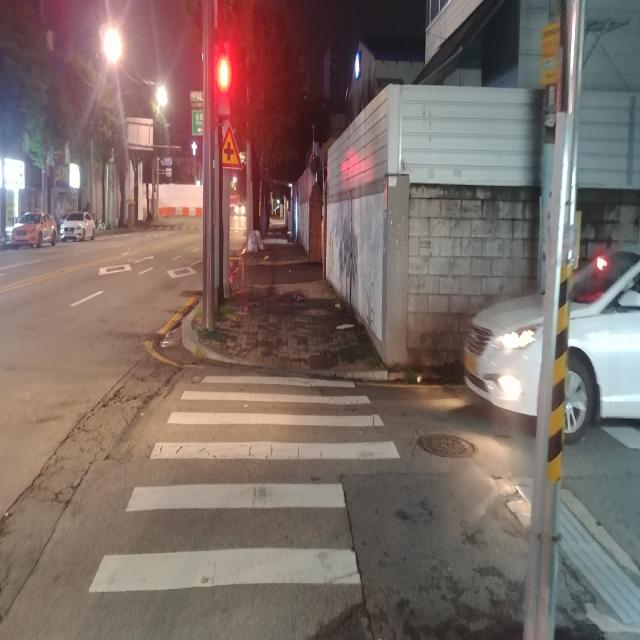빨간불: (215, 52, 232, 130)
횡단보도: (88, 375, 401, 592)
